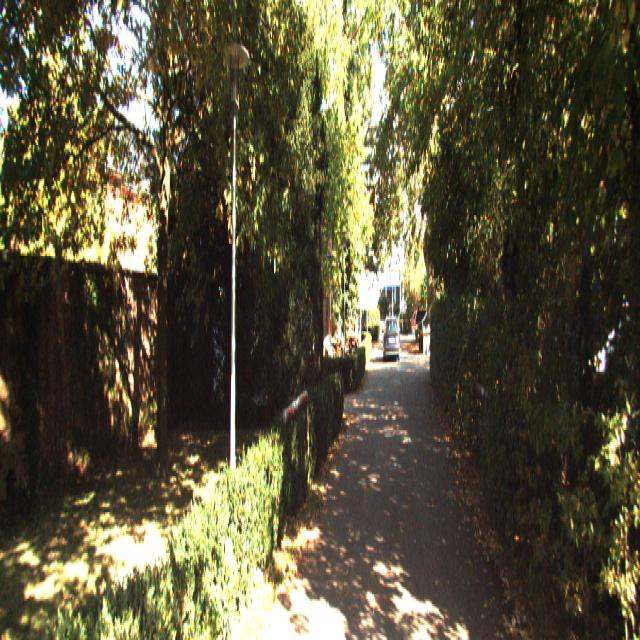Car: (384, 315, 401, 363)
